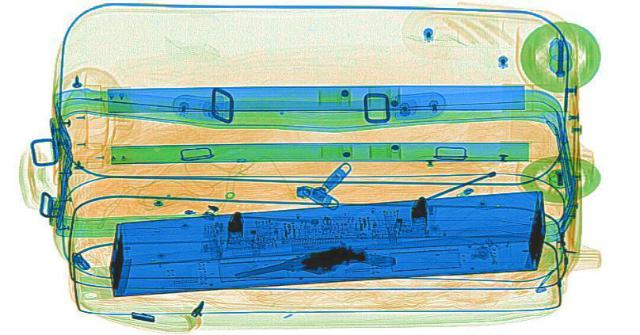Gun: (226, 234, 402, 295)
